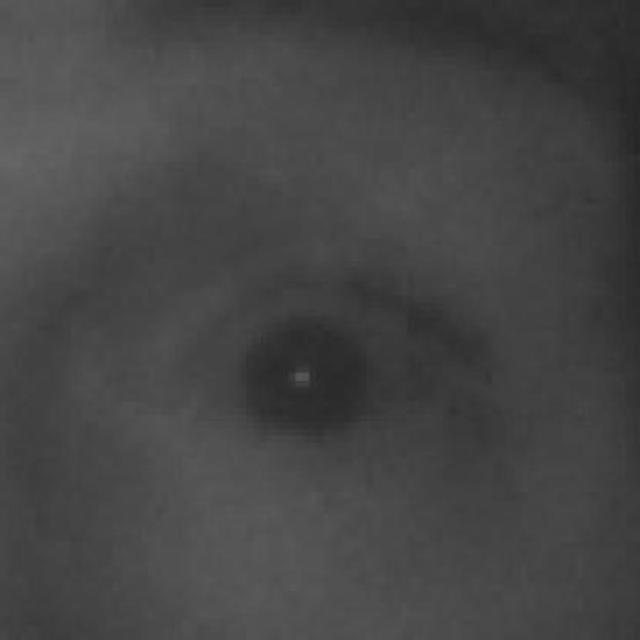awake: (161, 275, 479, 440)
